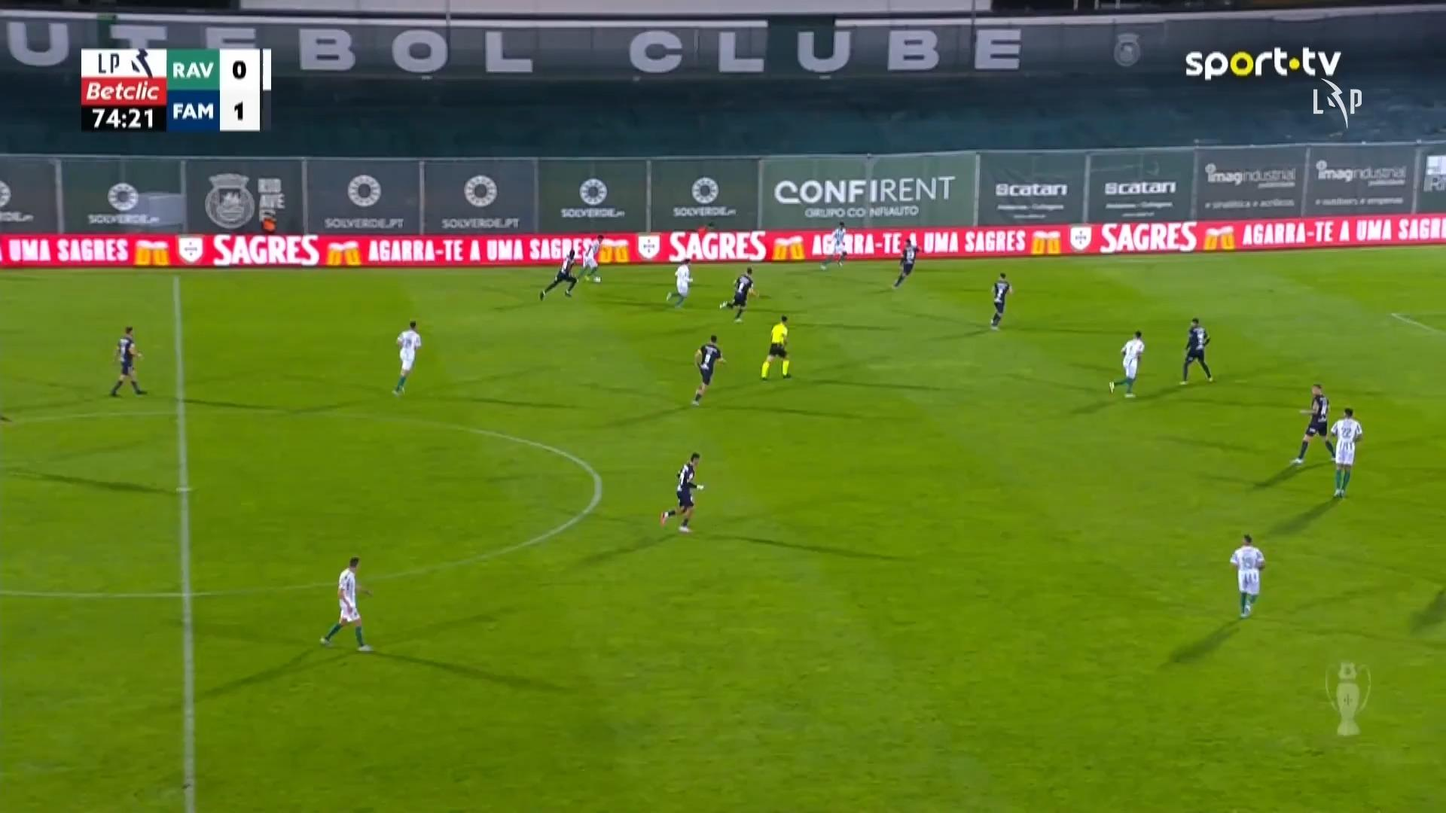player: (319, 556, 373, 652), (1290, 382, 1335, 465), (659, 452, 705, 532), (1328, 406, 1362, 498), (1229, 532, 1265, 618), (108, 325, 147, 396), (691, 333, 726, 406), (1108, 330, 1145, 398), (1179, 316, 1213, 385), (392, 319, 421, 396), (719, 266, 758, 323), (538, 248, 578, 300), (891, 236, 918, 289), (666, 258, 693, 308), (819, 221, 847, 269), (578, 233, 603, 283), (990, 271, 1011, 329)
referee: (760, 314, 792, 379)
